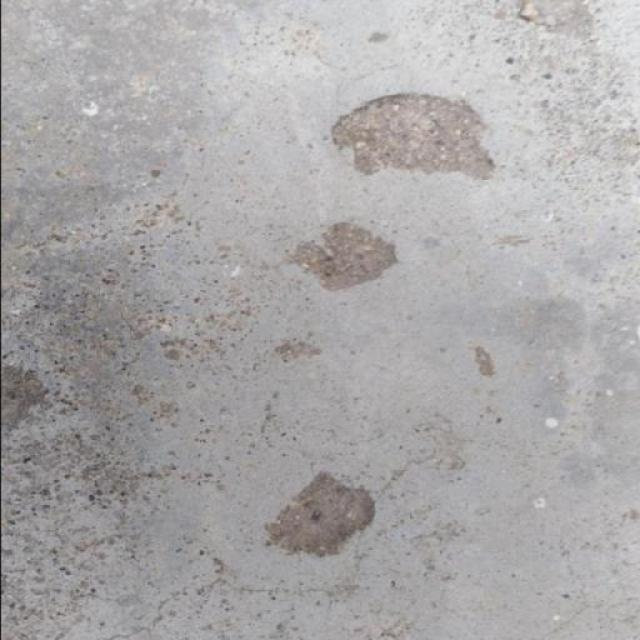D10: (326, 90, 494, 181), (262, 471, 372, 556), (278, 219, 395, 292), (0, 371, 49, 434), (516, 0, 590, 34)
